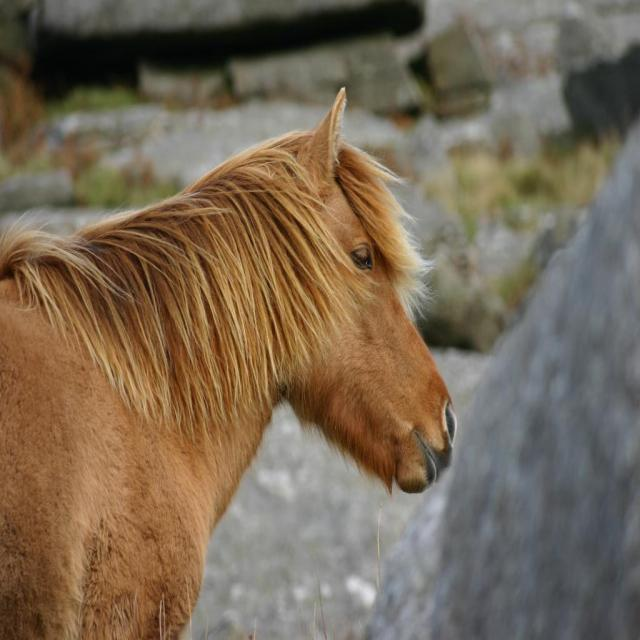Horse: (0, 90, 454, 639)
